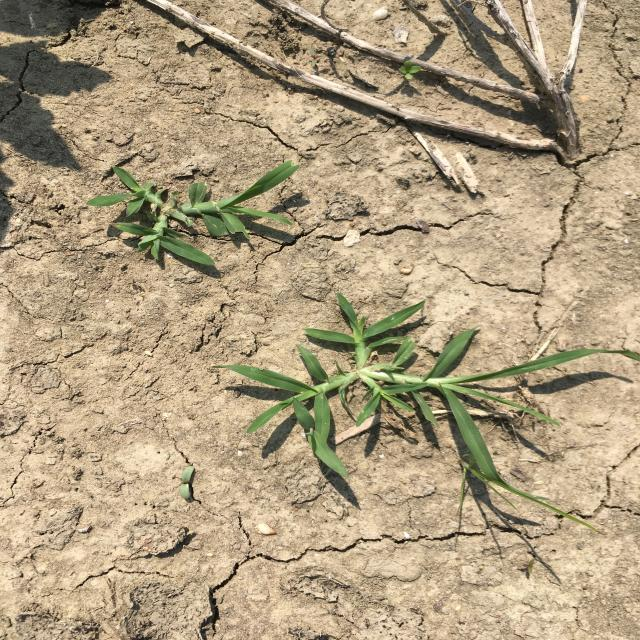Goosegrass: (209, 292, 638, 534), (84, 158, 302, 269)
